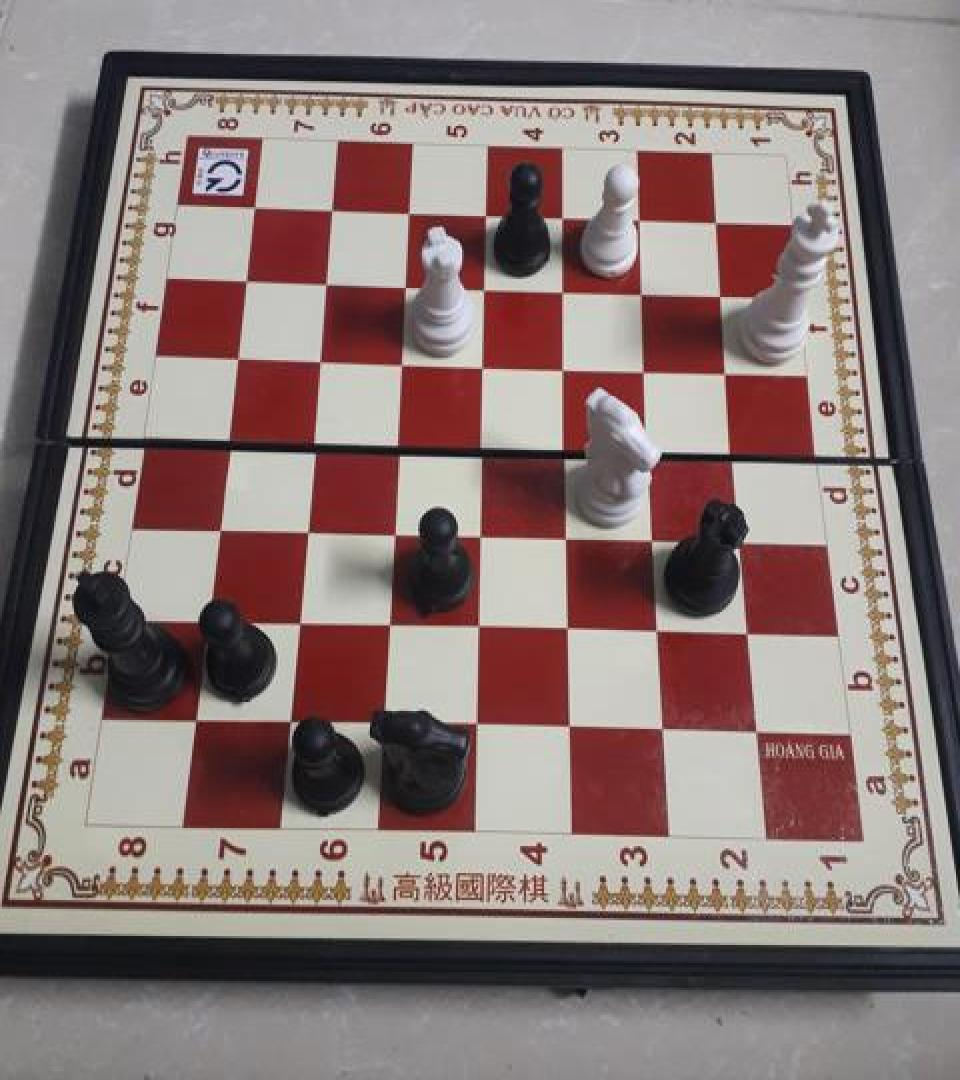xcorner: (370, 705, 402, 742), (183, 701, 215, 737), (276, 703, 308, 739), (463, 708, 495, 744), (556, 710, 588, 746), (649, 712, 681, 748), (742, 713, 774, 749), (194, 601, 226, 637), (285, 603, 317, 639), (375, 605, 407, 641), (465, 608, 497, 644), (555, 610, 587, 646), (644, 612, 676, 648), (734, 614, 766, 650), (205, 508, 237, 544), (292, 510, 324, 546), (379, 512, 411, 548), (466, 514, 498, 550), (553, 516, 585, 552), (640, 518, 672, 554), (726, 521, 758, 557), (215, 420, 247, 456), (299, 422, 331, 458), (384, 424, 416, 460), (468, 426, 500, 462), (552, 428, 584, 464), (635, 431, 667, 467), (719, 433, 751, 469), (224, 338, 256, 374), (306, 341, 338, 377), (388, 343, 420, 379), (469, 346, 501, 382), (550, 348, 582, 384), (632, 350, 664, 386), (712, 352, 744, 388), (233, 261, 265, 297), (312, 264, 344, 300), (470, 269, 502, 305), (549, 271, 581, 307), (628, 274, 660, 310), (706, 276, 738, 312), (241, 189, 273, 225), (318, 191, 350, 227), (395, 194, 427, 230), (472, 197, 504, 233), (548, 199, 580, 235), (624, 202, 656, 238), (700, 204, 732, 240), (391, 267, 423, 302)
